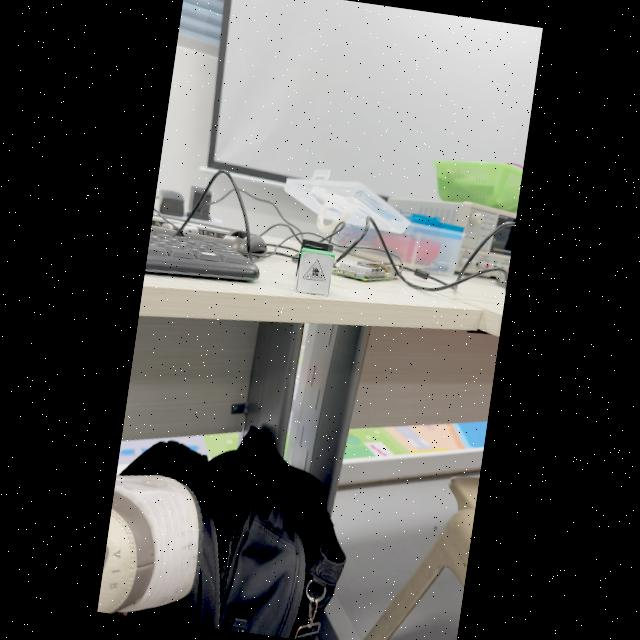Tsunami: (303, 259, 326, 283)
